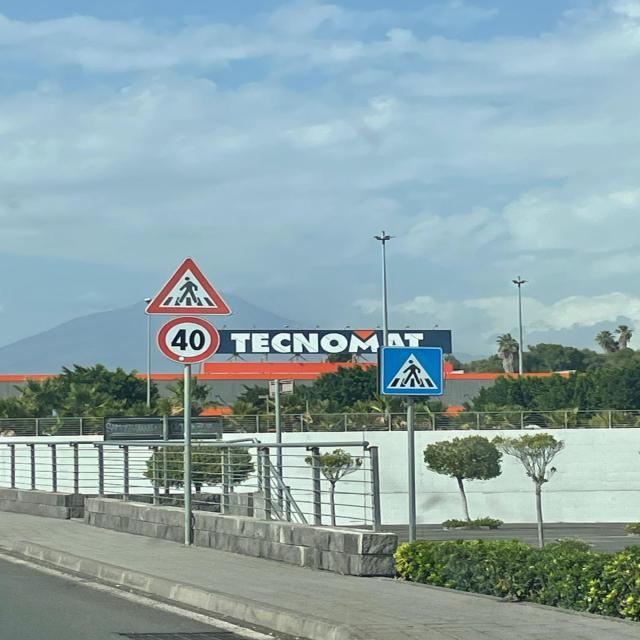forb_speed_over_40: (156, 315, 223, 365)
info_crosswalk: (380, 346, 444, 397)
warn_crosswalk: (145, 256, 233, 315)
